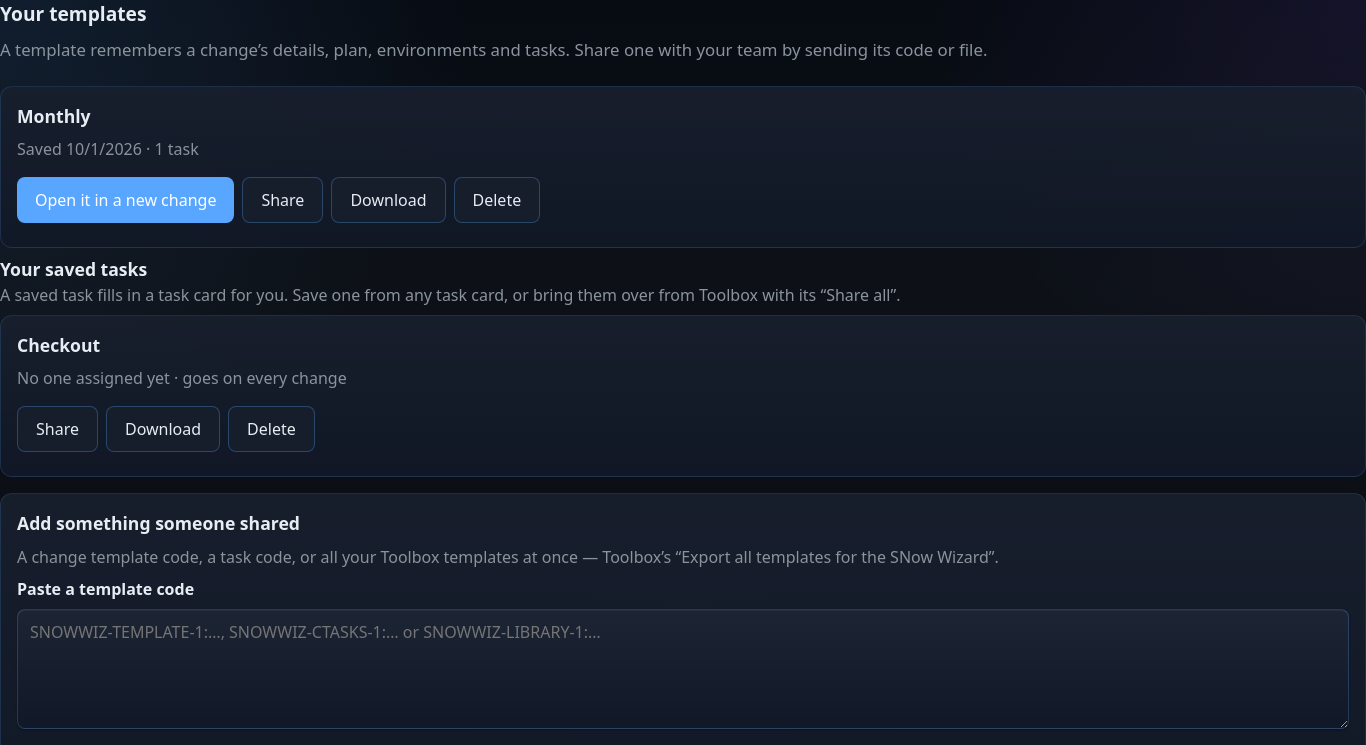
Test: TemplatesScreen › shows a code to copy when sharing
The width and height of the screenshot is (1366, 745).
What coordinates should you click on to do the following:
click the button "Share" below "Monthly"
I would click on:
 (283, 200)
Its box is [242,177,323,223].
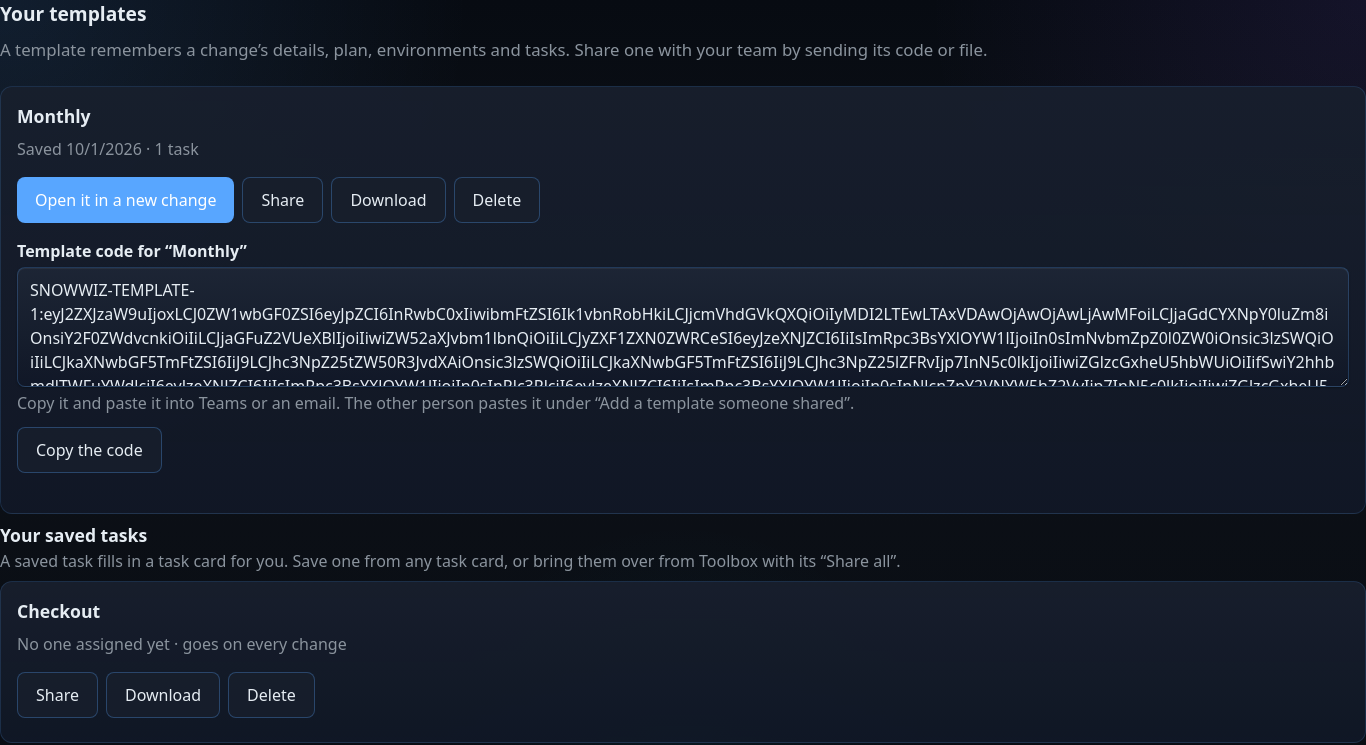
Expected: the button "Copy the code" is shown, [17,427,162,473]
